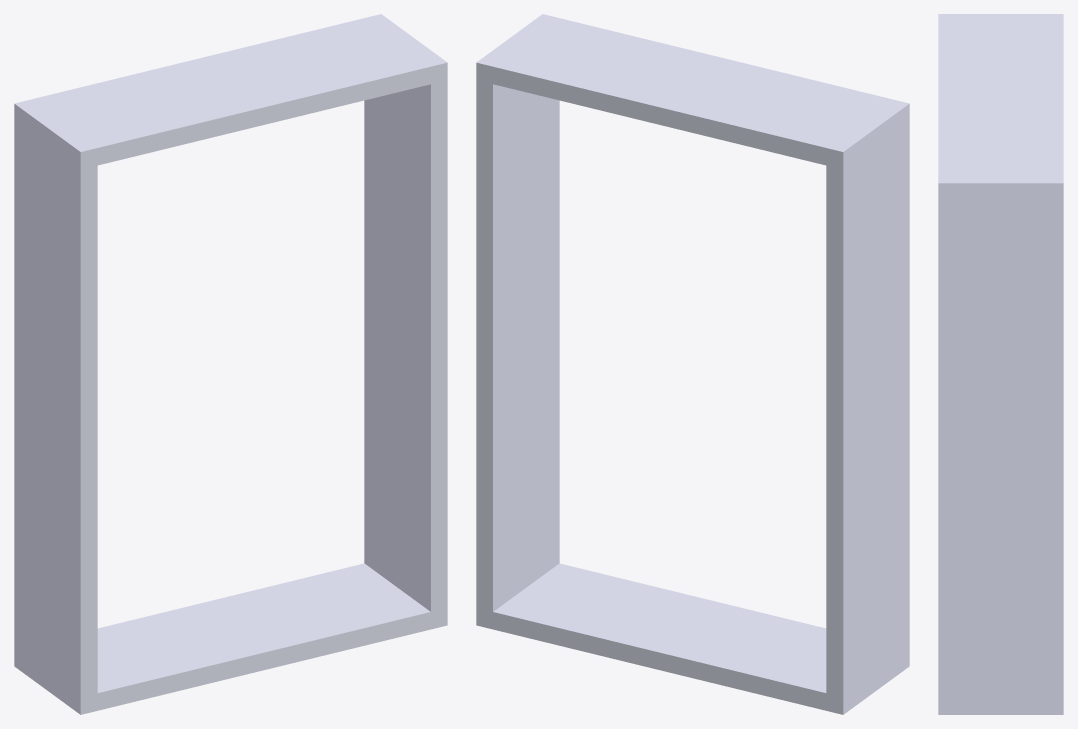
File: e8706e97-d816-419b-9ede-6c17515dce73.glb
3 views of the same model, side by side, from view 1: azimuth 30°, elevation 25°; view 2: azimuth 150°, elevation 25°; view 3: azimuth 270°, elevation 25° (orthographic). The views are drawn at different scales.
Parts seen in each view (by area): view 1: o_AlphaProta_Grey; view 2: o_AlphaProta_Grey; view 3: o_AlphaProta_Grey.
Boxes of the visible parts, left/top/right/bottom form: o_AlphaProta_Grey: left=14, top=14, right=447, bottom=714; o_AlphaProta_Grey: left=476, top=14, right=909, bottom=714; o_AlphaProta_Grey: left=938, top=14, right=1063, bottom=714.
Size of what is drawn, in the model's own units: 0.1436 by 0.2105 by 0.045.
2 materials, 2 textured.
